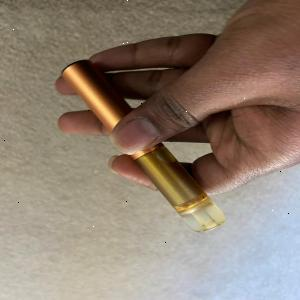Golden-E-Ciggirate: (47, 50, 235, 241)
